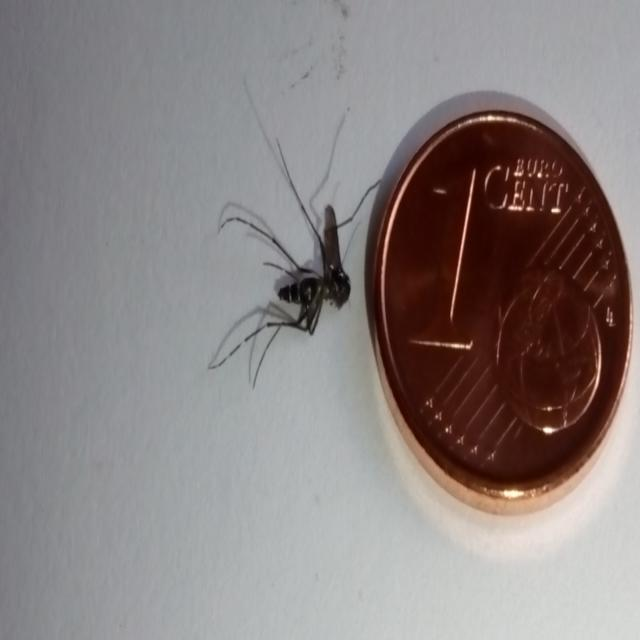albopictus: (210, 124, 384, 399)
